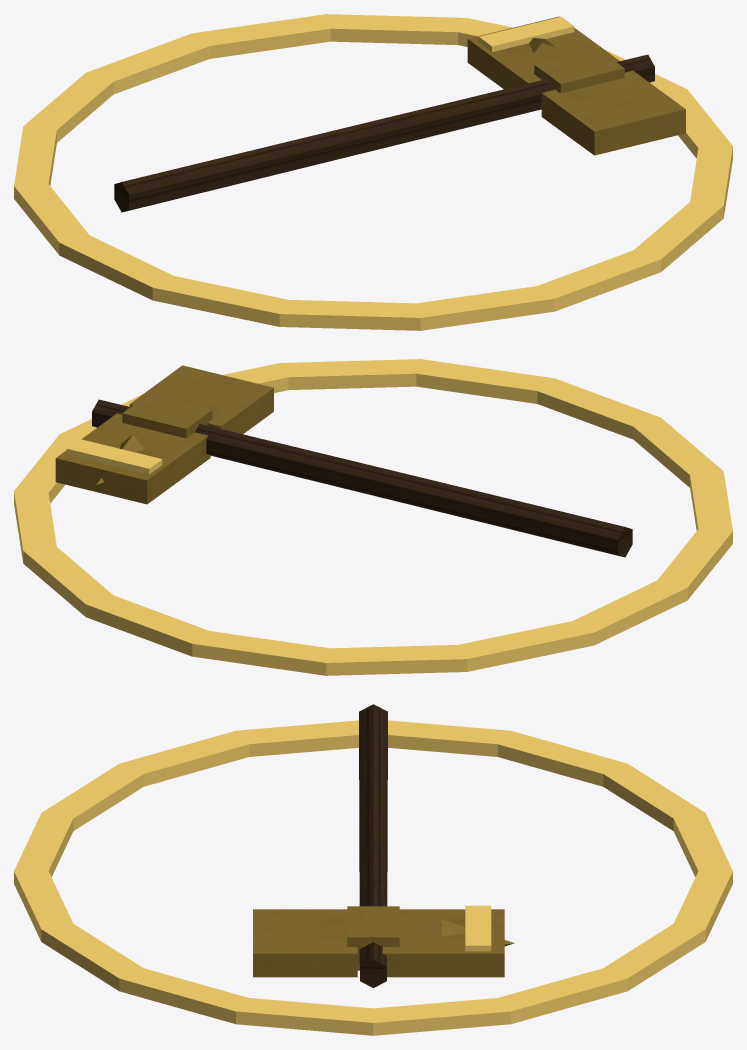
File: loot_axe_g3.glb
3 renders of one model, top to bottom at view 1: azimuth 30°, elevation 25°; view 2: azimuth 150°, elevation 25°; view 3: azimuth 270°, elevation 25°, orthographic.
Visible parts, largest first — view 1: loot_axe_g3; view 2: loot_axe_g3; view 3: loot_axe_g3.
Part boxes in pixels (bbox=[...]): loot_axe_g3: bbox=[14, 14, 732, 330]; loot_axe_g3: bbox=[14, 359, 732, 675]; loot_axe_g3: bbox=[14, 704, 732, 1035].
Bounding box in the file's own units: 1.37 × 0.135 × 1.37.
Materials: 3 (2 with a texture image).
